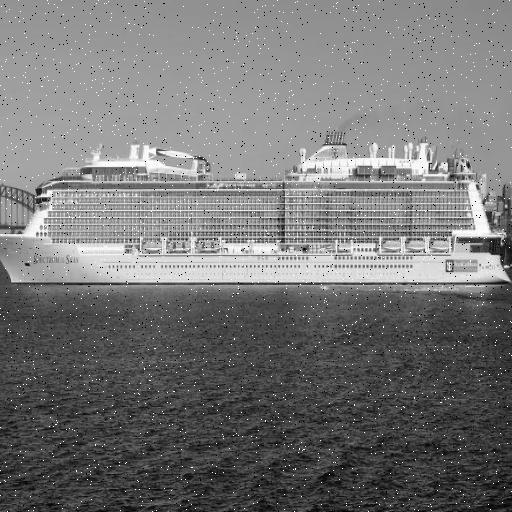cruises: (1, 135, 512, 290)
